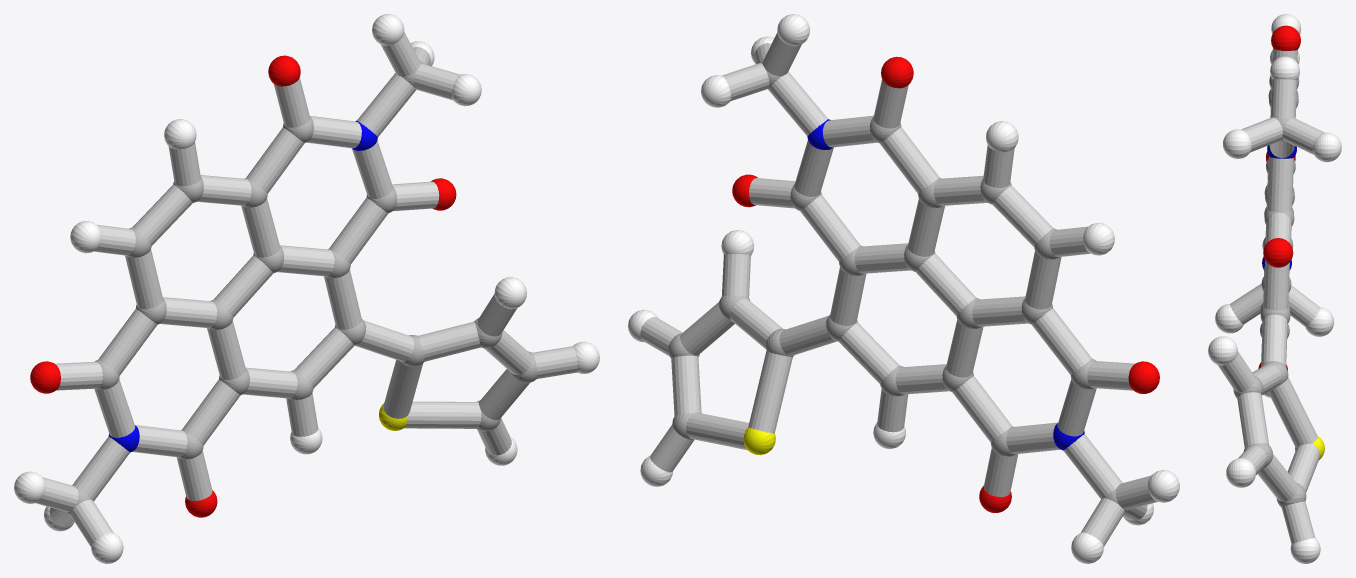
Rendered from Dimethyl_Naphthalene_Dicarboximide_Phi_0_Theta_30_Thiophene.glb.
3 renders of one model, left to right at view 1: azimuth 30°, elevation 25°; view 2: azimuth 150°, elevation 25°; view 3: azimuth 270°, elevation 25°, orthographic. The views are drawn at different scales.
Parts seen in each view (by area): view 1: grp14119, grp7241, grp1, grp12309, grp11585; view 2: grp14119, grp7241, grp1, grp12309, grp11585, grp13757; view 3: grp14119, grp7241, grp1, grp12309, grp11585.
Boxes of the visible parts, x1,y1,x2,y2 form: grp14119: (35,32,577,546); grp7241: (14,14,599,563); grp1: (65,60,537,515); grp12309: (30,55,456,517); grp11585: (108,120,377,452); grp14119: (640,32,1157,546); grp7241: (628,14,1179,563); grp1: (668,59,1129,512); grp12309: (732,56,1159,512); grp11585: (807,119,1084,450); grp13757: (743,427,775,455); grp14119: (1218,48,1324,543); grp7241: (1208,14,1341,563); grp1: (1233,76,1306,507); grp12309: (1258,25,1300,370); grp11585: (1262,145,1296,270).
Bounding box in the file's own units: 11.98 × 9.93 × 2.68.
